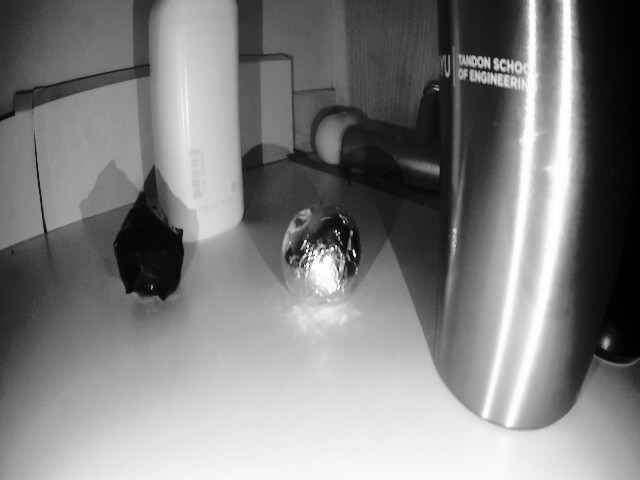black: (279, 205, 368, 315)
silver: (107, 206, 206, 314)
